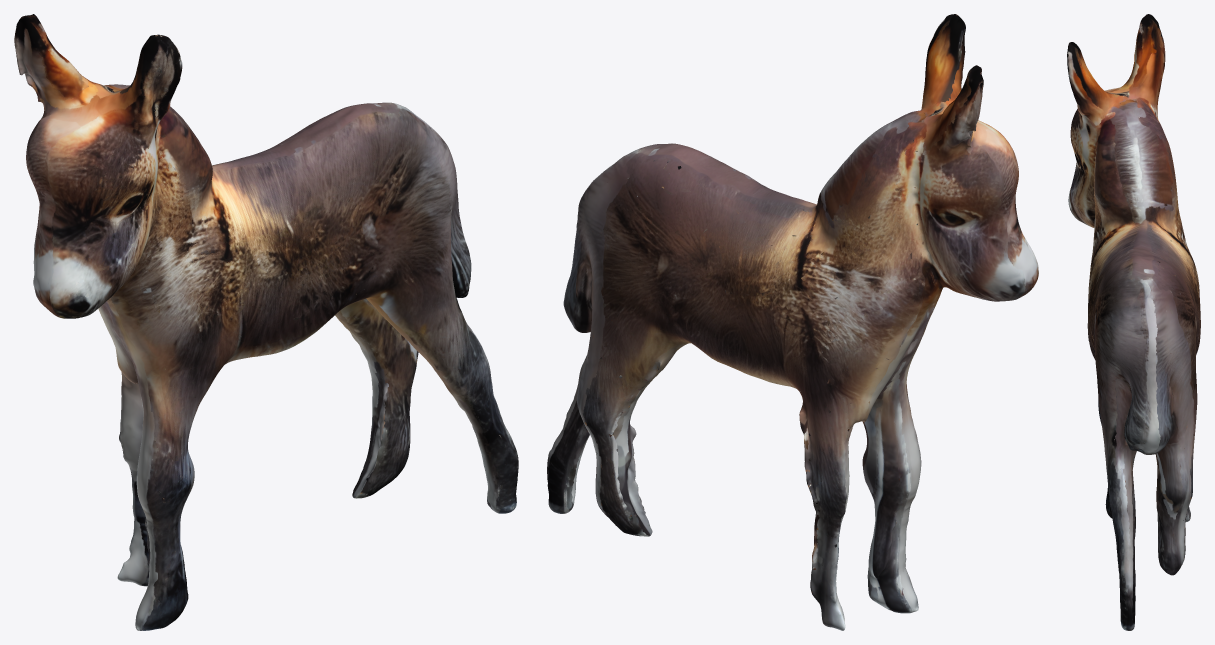
File: bebe.glb
The picture shows the model from 3 angles, left to right: view 1: azimuth 30°, elevation 25°; view 2: azimuth 150°, elevation 25°; view 3: azimuth 270°, elevation 25°; orthographic projection. The views are drawn at different scales.
Parts seen in each view (by area): view 1: mesh; view 2: mesh; view 3: mesh.
Part boxes in pixels (x1,y1,x2,y2): mesh: [14, 14, 518, 630]; mesh: [547, 14, 1038, 630]; mesh: [1067, 14, 1200, 630].
Size of the model in its own units: 1.33 by 1.58 by 0.414.
1 material, 1 textured.
